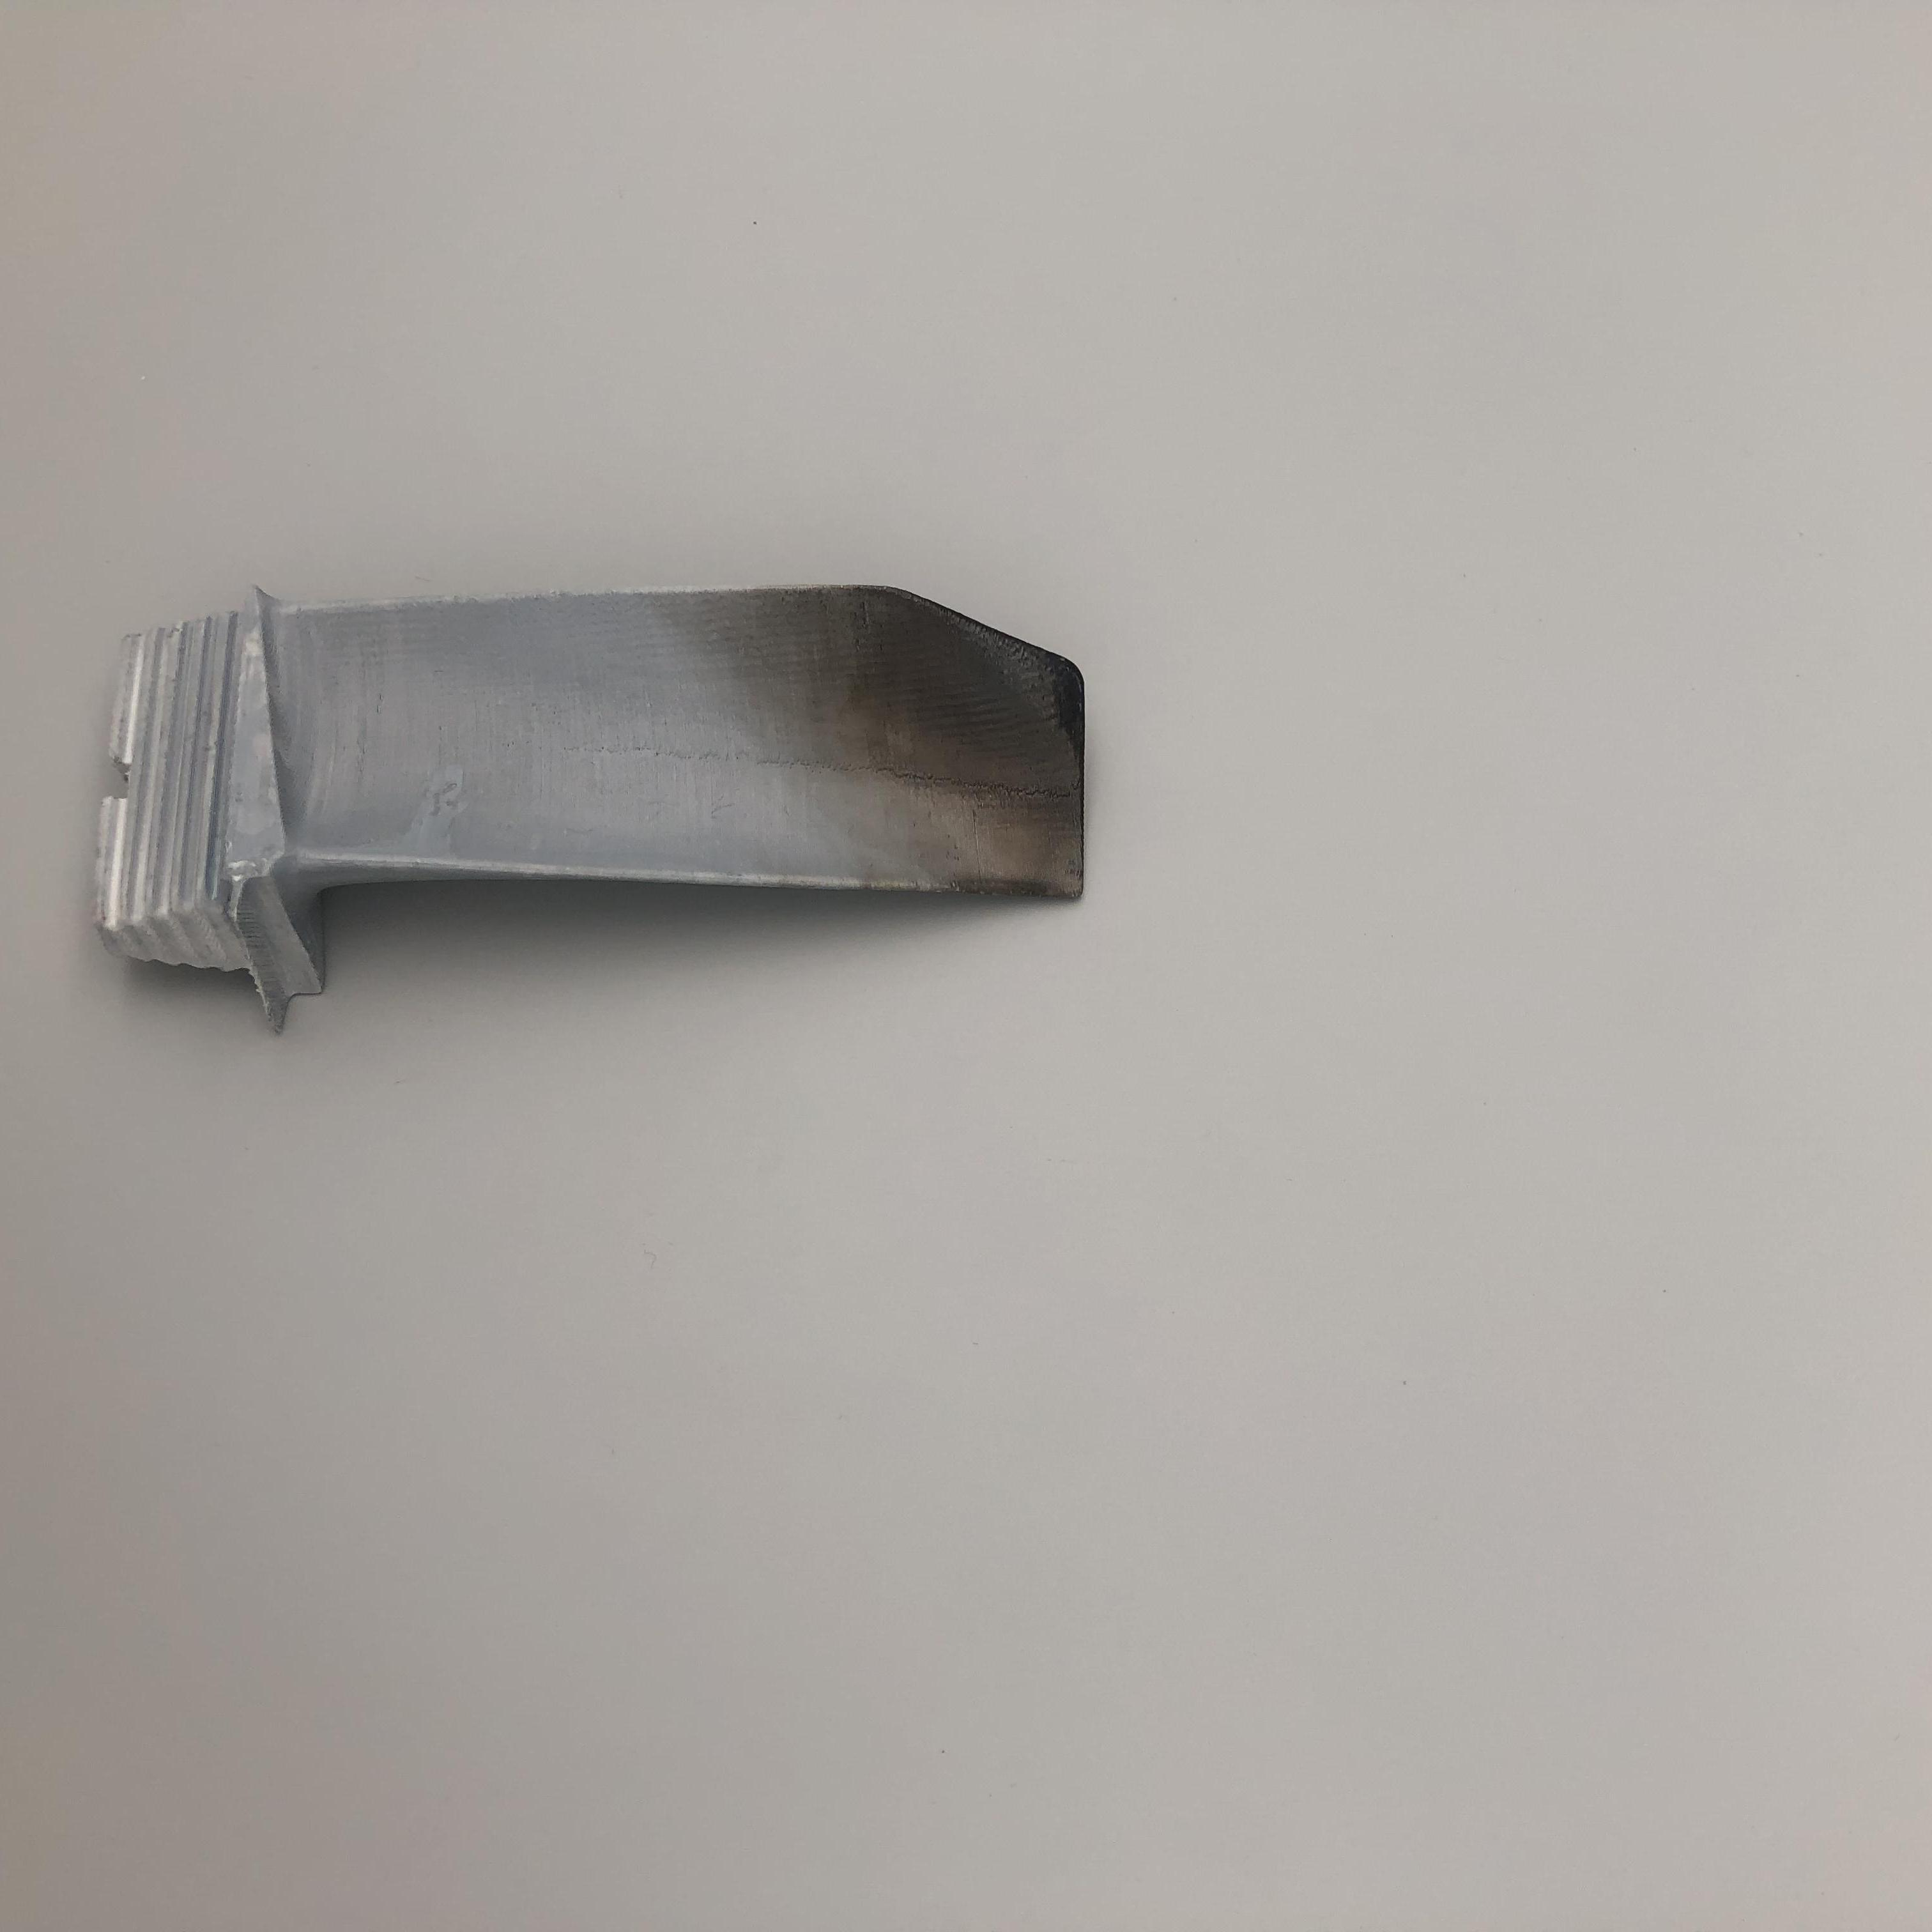ablation: (824, 593, 1111, 897)
